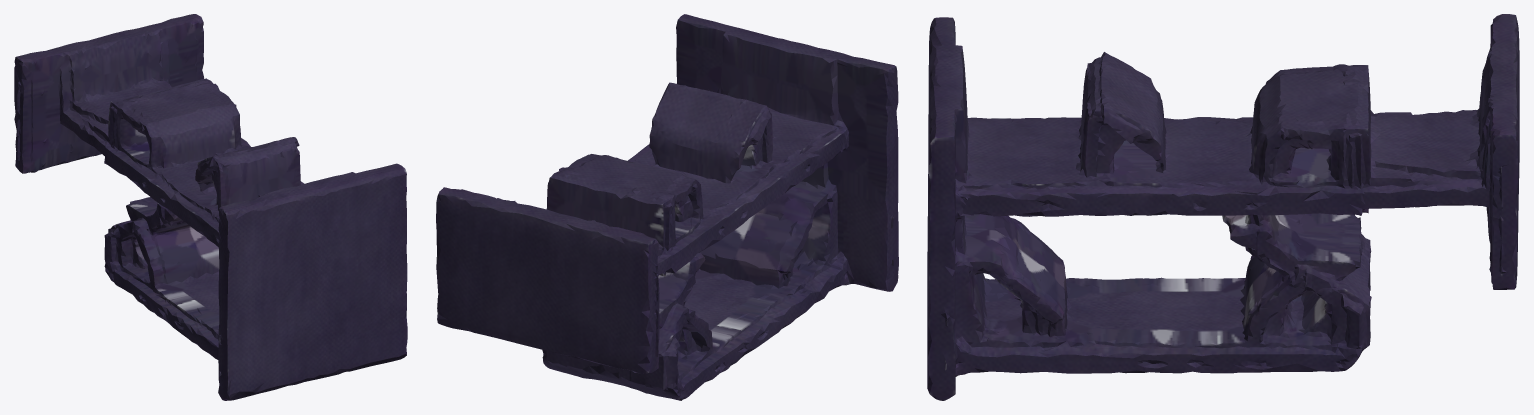
The model's file is architect_fromsketch.glb.
3 views of the same model, side by side, from view 1: azimuth 30°, elevation 25°; view 2: azimuth 150°, elevation 25°; view 3: azimuth 270°, elevation 25° (orthographic). The views are drawn at different scales.
Visible parts, largest first — view 1: Architect_FromSketch; view 2: Architect_FromSketch; view 3: Architect_FromSketch.
Part boxes in pixels (<box>): Architect_FromSketch: <box>14,14,407,400</box>; Architect_FromSketch: <box>436,14,898,400</box>; Architect_FromSketch: <box>927,14,1519,400</box>.
Size of the model in its own units: 0.9452 by 0.9396 by 1.89.
Materials: 1 (1 with a texture image).
